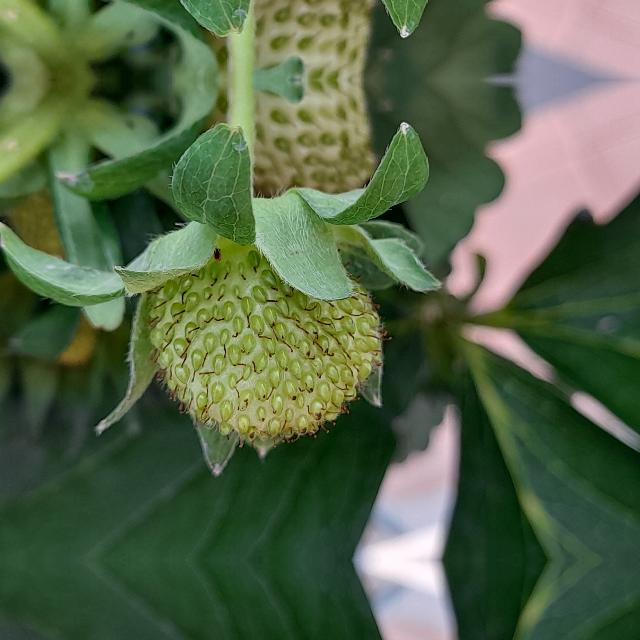Health_25: (144, 220, 392, 448)
